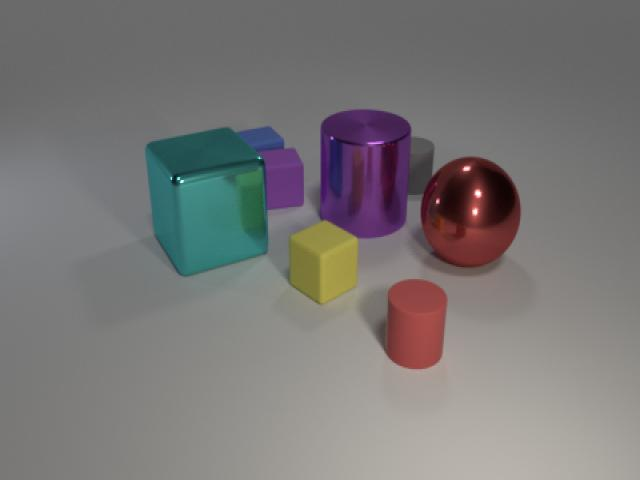cylinder: (316, 104, 410, 244), (380, 272, 450, 372), (403, 130, 434, 198)
round ball: (418, 150, 526, 274)
